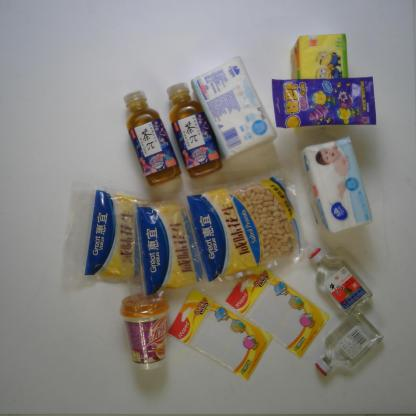Alcohol: (313, 308, 385, 378), (308, 247, 376, 319)
Candy: (272, 71, 376, 127)
Dried Fruit: (52, 180, 203, 297), (122, 191, 248, 302), (183, 180, 299, 281)
Drink: (122, 86, 183, 189), (170, 79, 219, 177)
Instant Drink: (115, 292, 173, 372)
Stationery: (223, 258, 332, 361), (166, 295, 272, 383)
Tissue: (190, 52, 283, 163), (295, 136, 375, 235), (298, 22, 352, 119)
